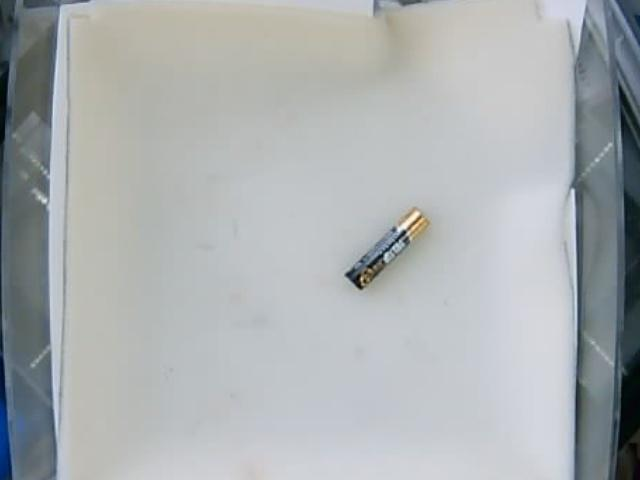Battery: (339, 208, 428, 289)
